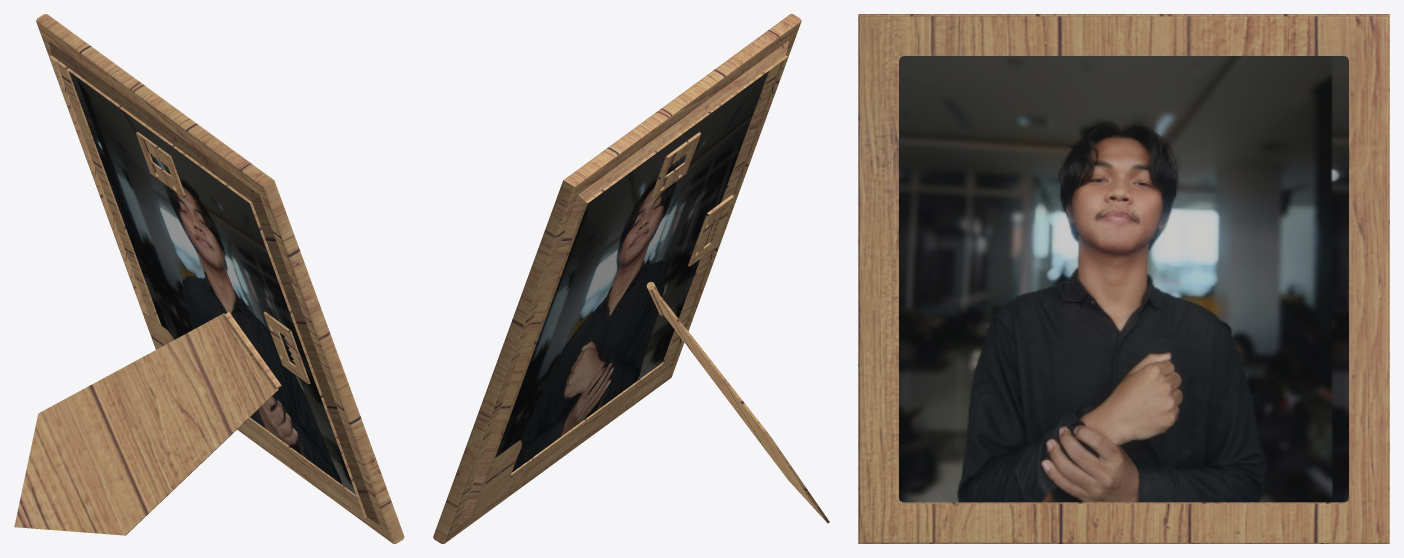
Rendered from DAFA.fbx.
The picture shows the model from 3 angles, left to right: view 1: azimuth 30°, elevation 25°; view 2: azimuth 150°, elevation 25°; view 3: azimuth 270°, elevation 25°; orthographic projection. The views are drawn at different scales.
Visible parts, largest first — view 1: PictureFrame.001; view 2: PictureFrame.001; view 3: PictureFrame.001.
Part boxes in pixels (x1=…): PictureFrame.001: x1=14, y1=14, x2=404, y2=543; PictureFrame.001: x1=433, y1=14, x2=829, y2=543; PictureFrame.001: x1=858, y1=14, x2=1389, y2=543.
Bounding box in the file's own units: 355 × 476 × 501.
Materials: 2 (2 with a texture image).
